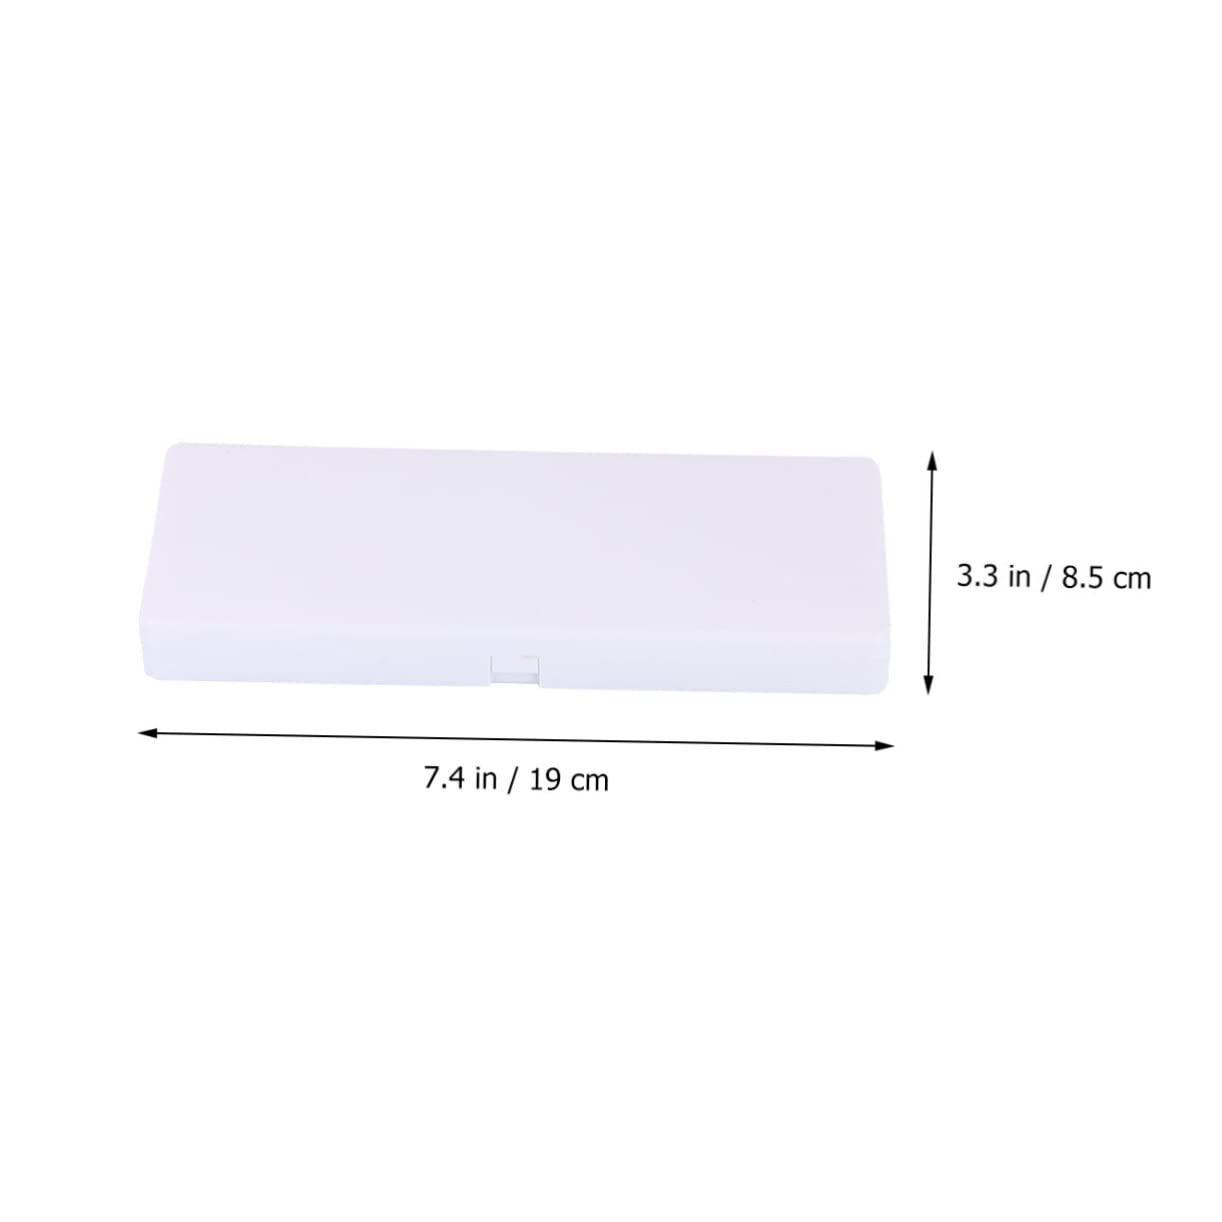19cm: (532, 767, 608, 791)
3.3: (958, 564, 997, 587)
7.4in/: (425, 767, 518, 795)
